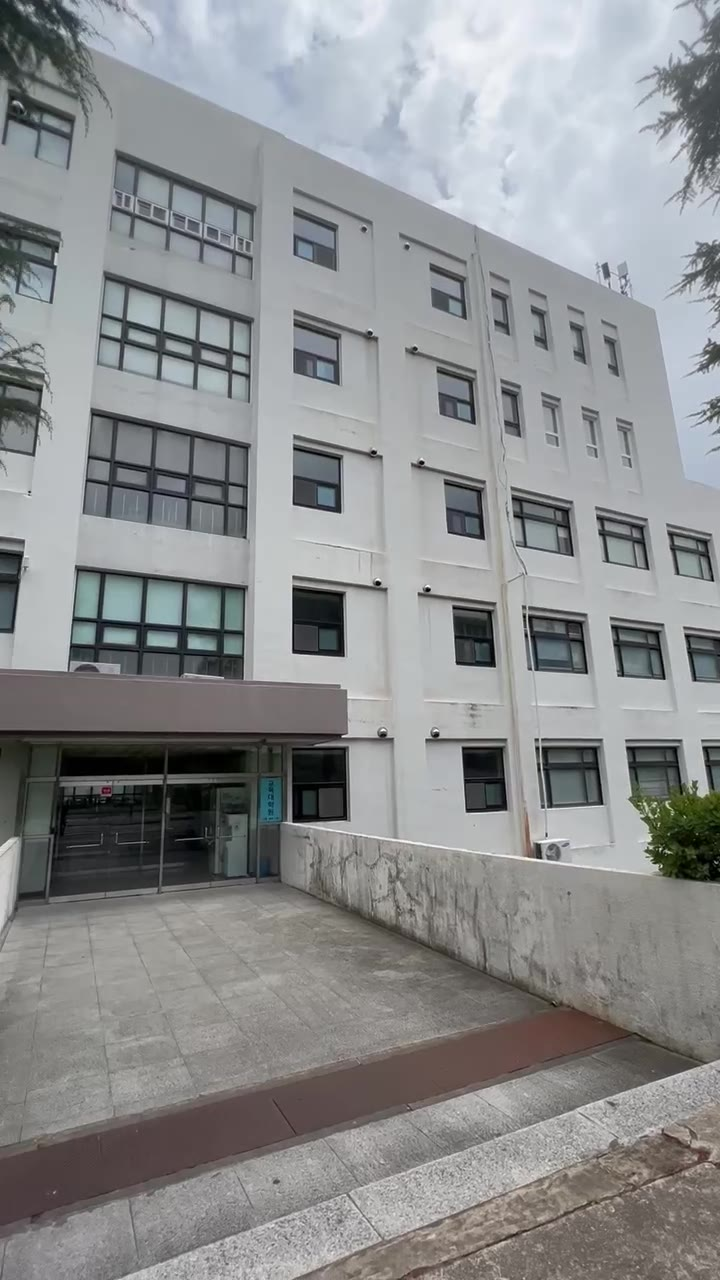medium: (14, 162, 676, 944)
